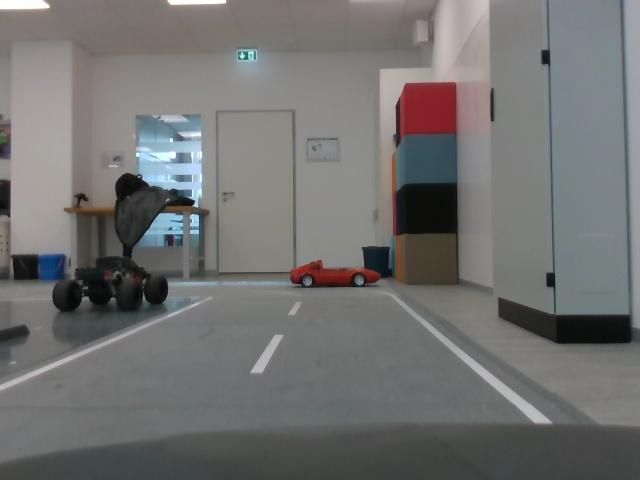car: (50, 257, 180, 317), (289, 256, 384, 294)
